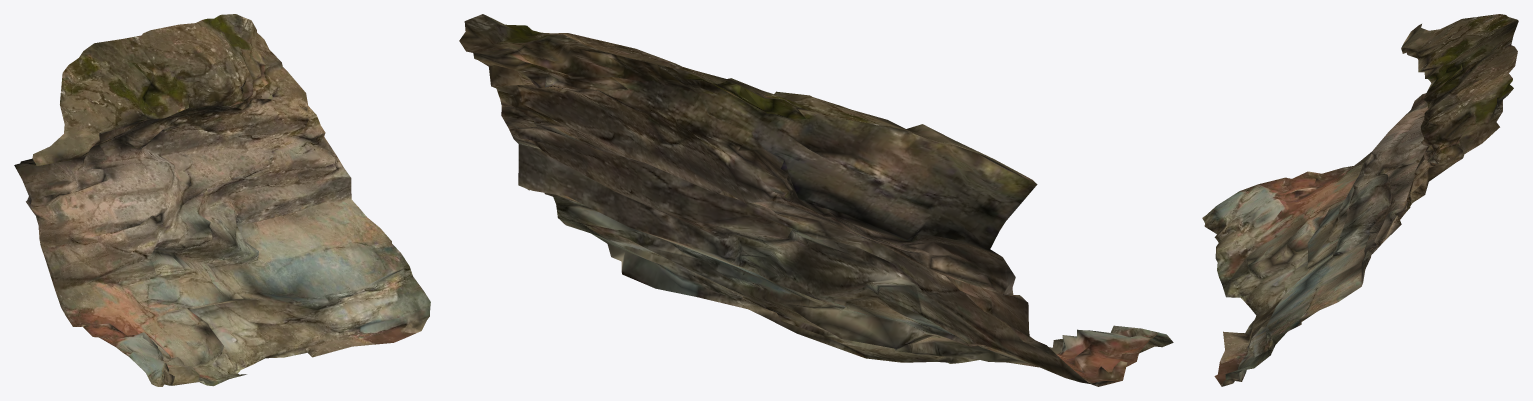
Rendered from rock_face_01_far.glb.
The picture shows the model from 3 angles, left to right: view 1: azimuth 30°, elevation 25°; view 2: azimuth 150°, elevation 25°; view 3: azimuth 270°, elevation 25°; orthographic projection. The views are drawn at different scales.
Parts seen in each view (by area): view 1: rock_face_01; view 2: rock_face_01; view 3: rock_face_01.
Boxes of the visible parts, <box> form: rock_face_01: <box>14,14,430,386</box>; rock_face_01: <box>459,14,1173,386</box>; rock_face_01: <box>1202,14,1518,386</box>.
Size of the model in its own units: 4.94 by 3.56 by 3.82.
1 material, 1 textured.
